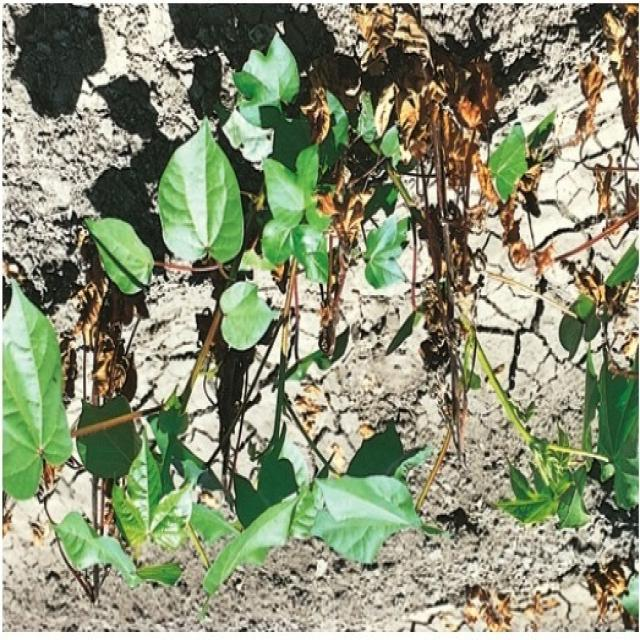Fusarium Wilt: (21, 17, 619, 640)
